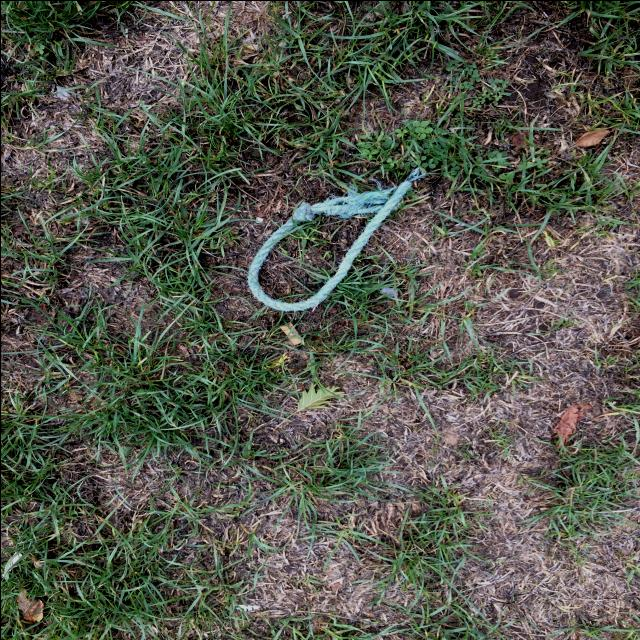Cigarette: (279, 321, 301, 344)
Rope - strings: (247, 168, 425, 310)
